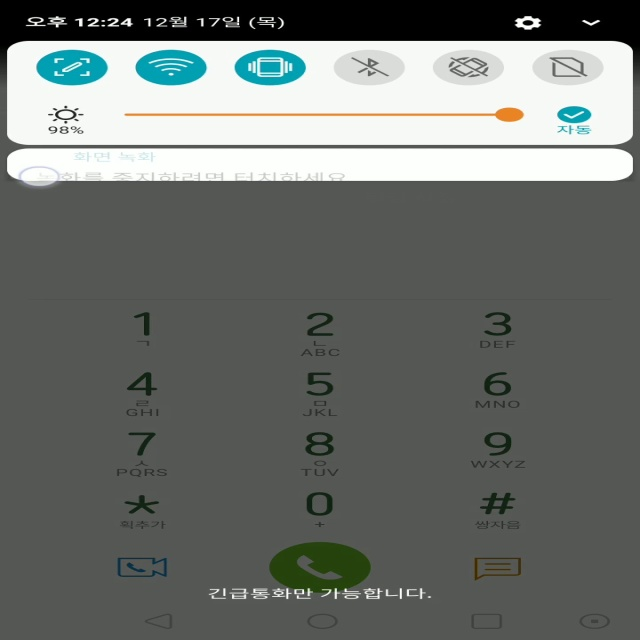Cursor: (19, 165, 64, 188)
